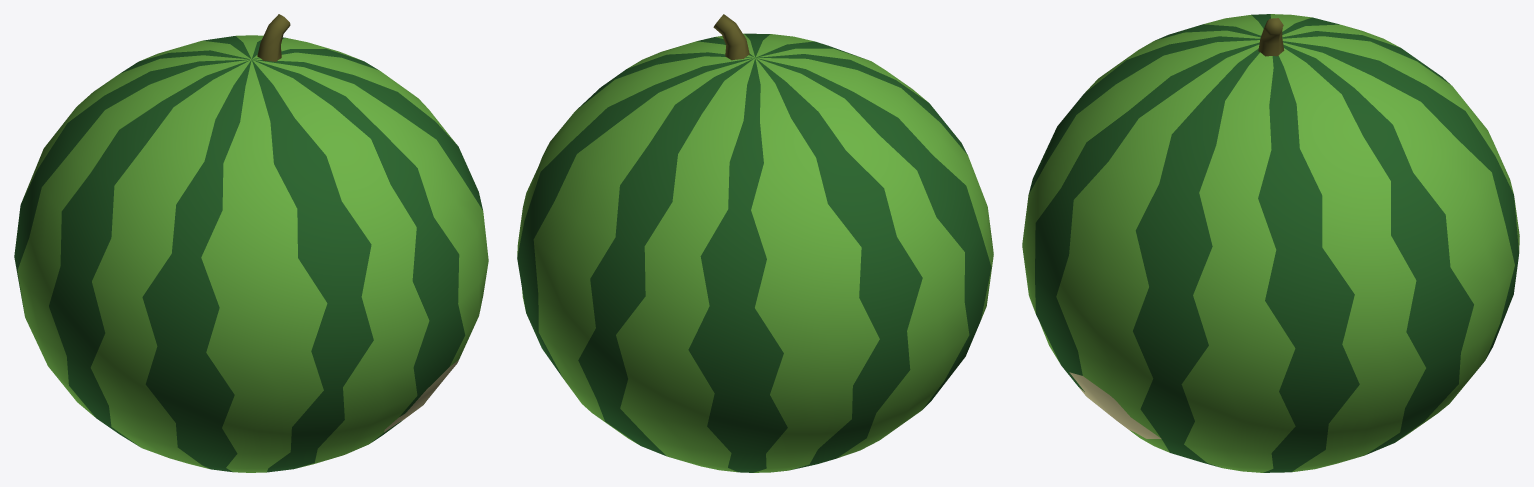
The model's file is range_watermelon.glb.
3 views of the same model, side by side, from view 1: azimuth 30°, elevation 25°; view 2: azimuth 150°, elevation 25°; view 3: azimuth 270°, elevation 25° (orthographic). The views are drawn at different scales.
Visible parts, largest first — view 1: fruit_half_neg, fruit_half_pos, fruit_whole; view 2: fruit_half_neg, fruit_half_pos, fruit_whole; view 3: fruit_half_pos, fruit_half_neg, fruit_whole.
Part boxes in pixels (x1=…): fruit_half_neg: x1=14, y1=41, x2=369, y2=472; fruit_half_pos: x1=200, y1=14, x2=488, y2=459; fruit_whole: x1=220, y1=45, x2=403, y2=468; fruit_half_neg: x1=636, y1=39, x2=993, y2=472; fruit_half_pos: x1=517, y1=14, x2=805, y2=464; fruit_whole: x1=590, y1=39, x2=813, y2=467; fruit_half_pos: x1=1022, y1=18, x2=1518, y2=472; fruit_half_neg: x1=1025, y1=14, x2=1514, y2=221; fruit_whole: x1=1022, y1=40, x2=1519, y2=292.
Size of the model in its own units: 0.2596 by 0.2564 by 0.2597.
